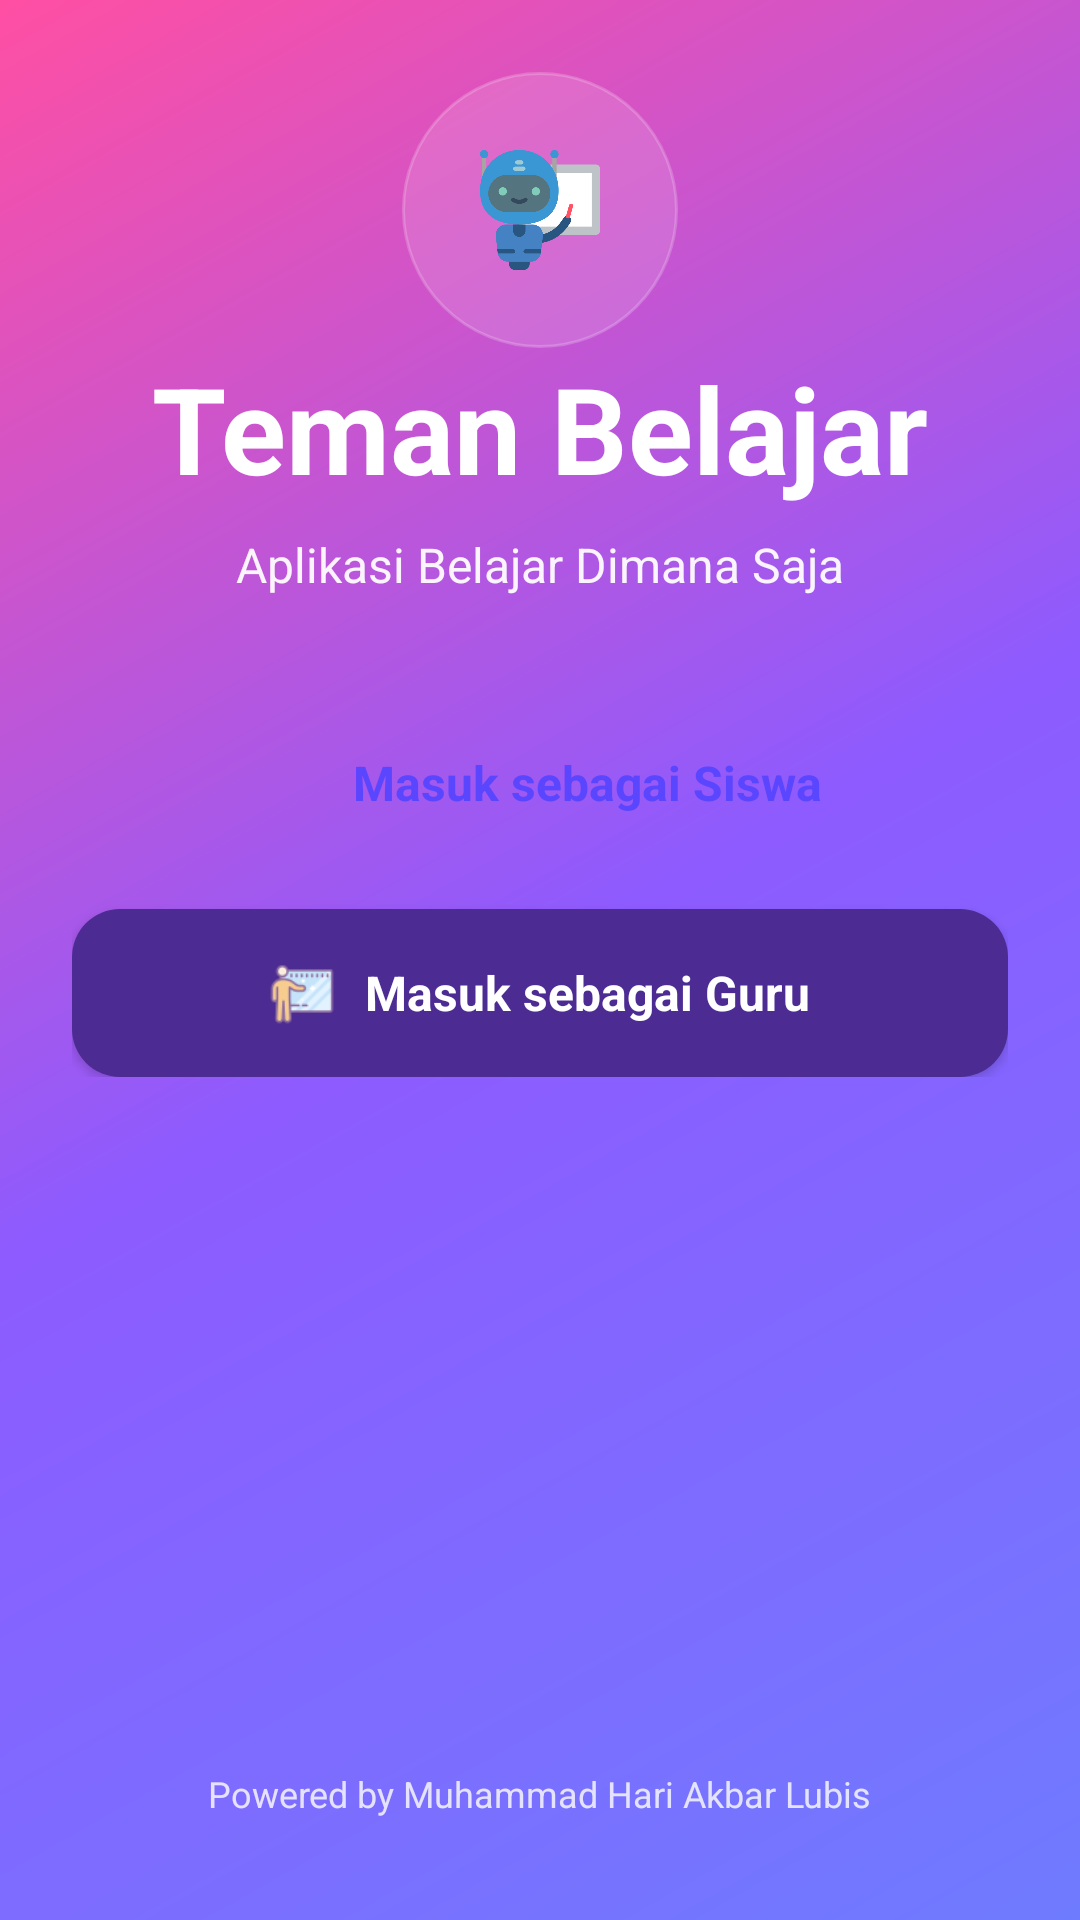

Where to tap for icons on this 1080px x 1920px app screen, as [x,y]:
bot: [540,210]
